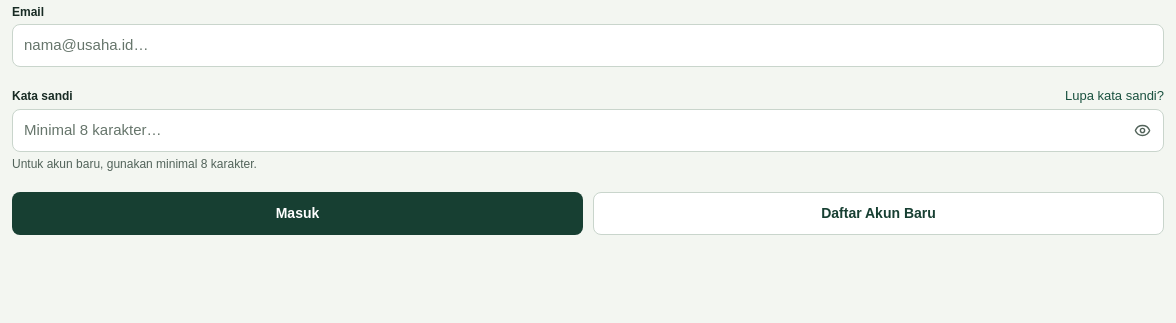
it: LoginForm (password only; link only for forgot password) › forgot password needs a valid email and reports rate limits in Indonesian
The image size is (1176, 323).
Step 1. Click the button "Lupa kata sandi?" → {"x": 1114, "y": 96}, box [1065,86,1164,106]
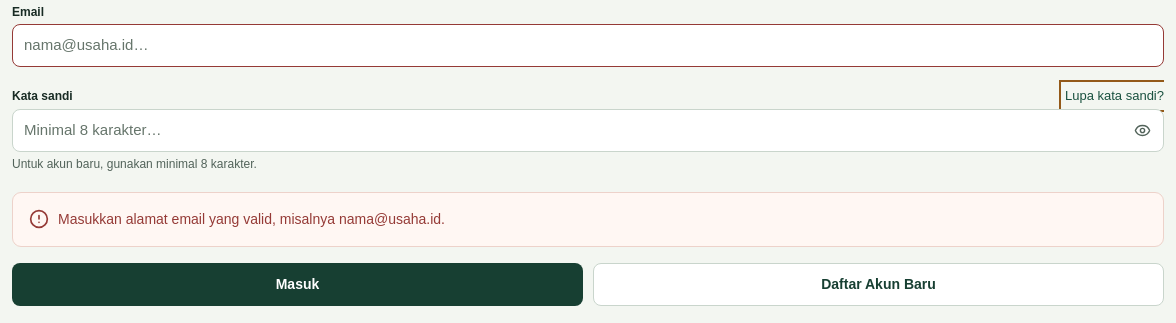
Check: the message shows "email yang valid", box [58,210,445,226]
Step 2. Type "pemilik@dapur.id" into the field labelled "Email" → {"x": 588, "y": 46}, box [12,24,1164,67]
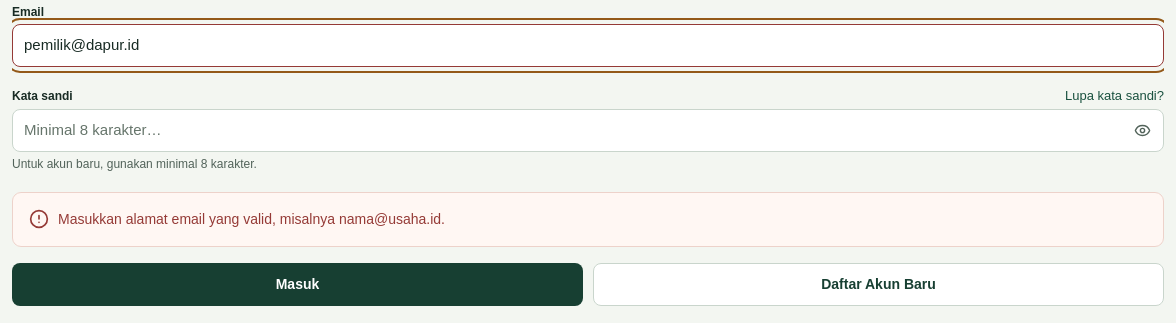
Step 3. Click the button "Lupa kata sandi?" → {"x": 1114, "y": 96}, box [1065,86,1164,106]
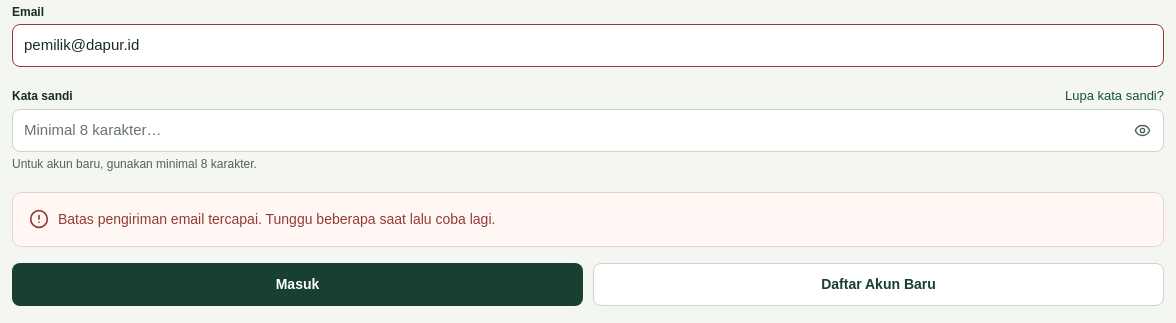
Check: the message shows "Batas pengiriman email", box [58,210,495,226]
